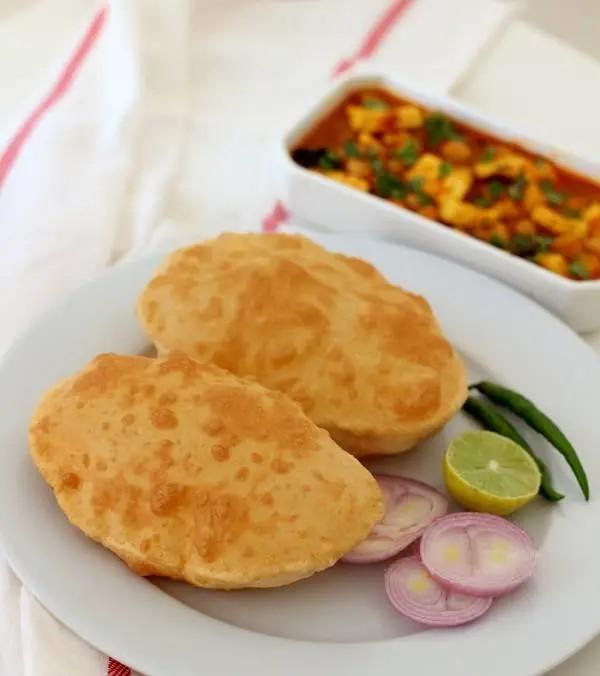Bhatura: (28, 357, 385, 588), (139, 233, 465, 456)
